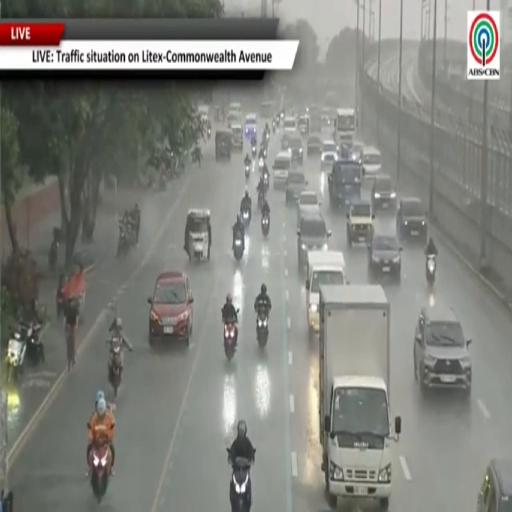bus: (335, 108, 356, 141)
car: (414, 301, 471, 394), (148, 271, 193, 345), (297, 211, 331, 268), (477, 458, 511, 511), (368, 233, 401, 281), (328, 160, 361, 207), (397, 198, 428, 244), (346, 201, 374, 246), (371, 174, 396, 211), (297, 190, 321, 228), (286, 171, 307, 204), (273, 151, 291, 189), (362, 147, 381, 178), (214, 129, 232, 161), (321, 140, 338, 169), (289, 135, 303, 165), (231, 124, 243, 151), (307, 135, 322, 156), (245, 114, 257, 138), (351, 141, 363, 163), (283, 116, 297, 134), (227, 110, 241, 127), (298, 115, 309, 136), (280, 134, 291, 150), (229, 102, 241, 116), (321, 115, 330, 129)
motorcycle: (6, 322, 43, 382), (227, 448, 251, 511), (89, 442, 112, 503), (6, 330, 26, 382), (21, 323, 43, 365), (108, 335, 122, 398), (117, 221, 136, 255), (224, 319, 238, 360), (256, 304, 269, 347), (48, 238, 59, 272), (117, 223, 128, 255), (426, 255, 436, 285), (234, 234, 244, 261), (241, 208, 250, 228), (261, 215, 269, 237), (159, 173, 167, 190), (258, 190, 264, 211), (263, 171, 269, 191), (264, 130, 270, 143), (245, 164, 250, 179), (259, 157, 264, 171), (252, 146, 257, 157), (207, 127, 211, 139), (280, 111, 285, 120), (263, 148, 267, 159), (276, 116, 280, 126), (273, 120, 275, 133)
truck: (319, 285, 401, 509)
